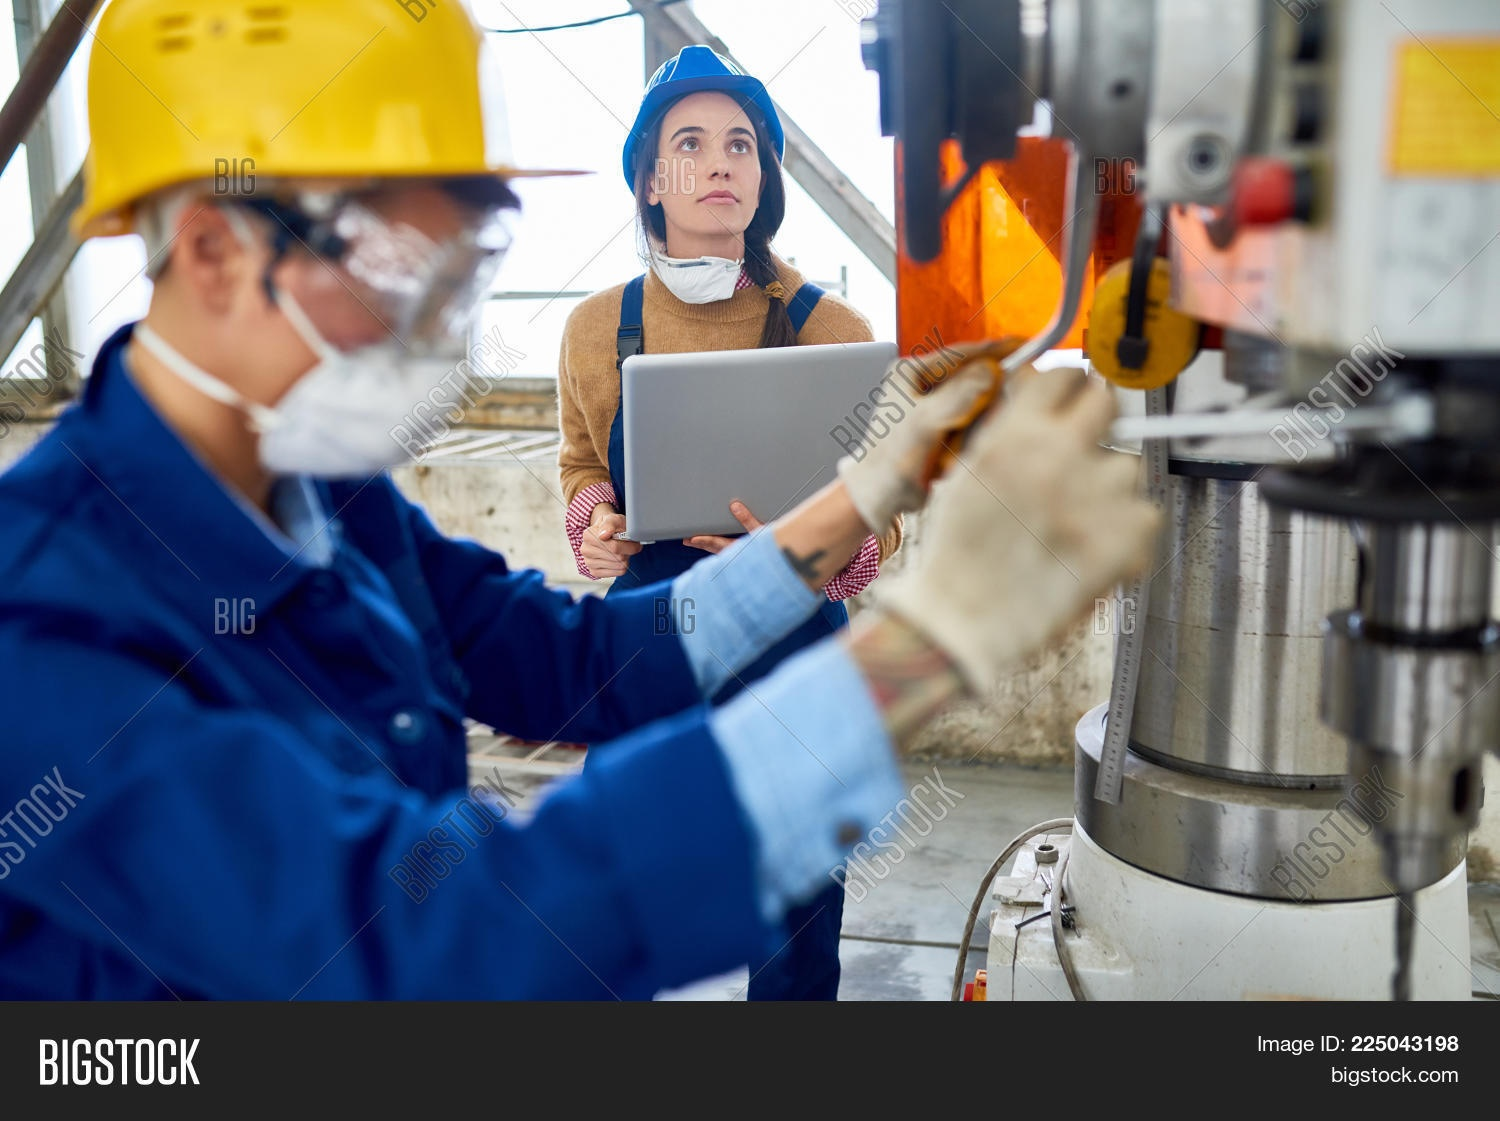blue: (618, 42, 786, 257)
yellow: (74, 1, 519, 486)
